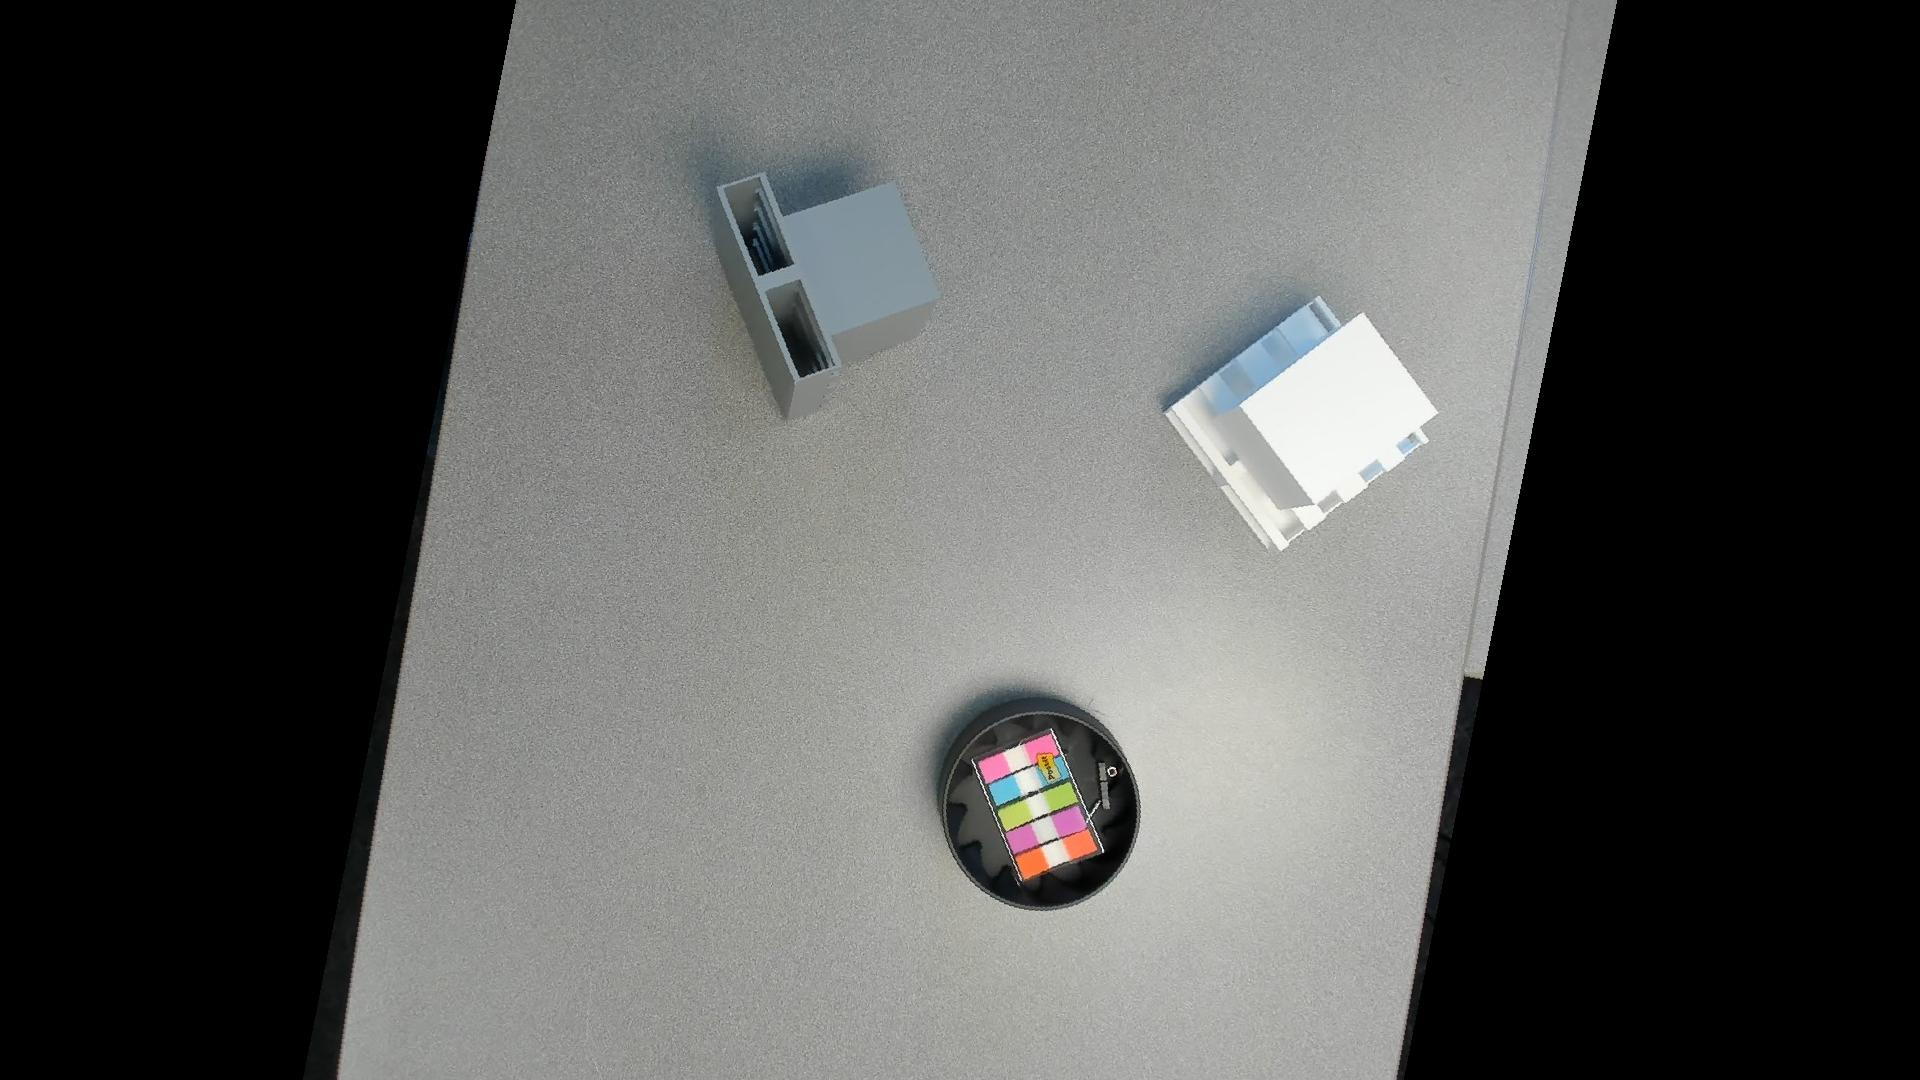grey pallet: (688, 156, 943, 429)
white pallet: (1145, 278, 1447, 564)
